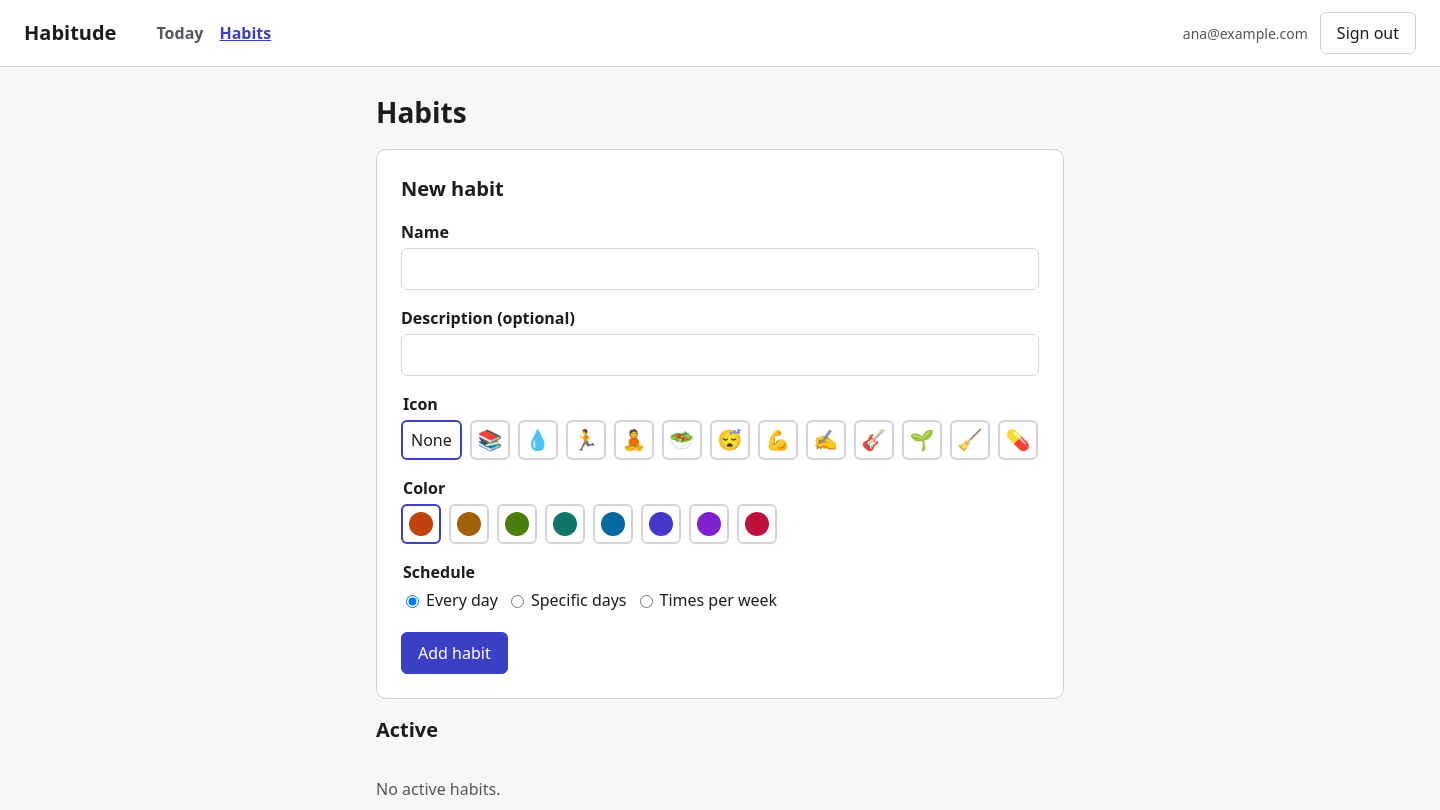
Scenario: spec 002 US1 - Create a habit › given 50 habits, when creating a 51st, then "Habit limit reached (50)" is announced
The width and height of the screenshot is (1440, 810).
Type "One too many" into the field labelled "Name" at [720, 269], box 401,248 -> 1039,290
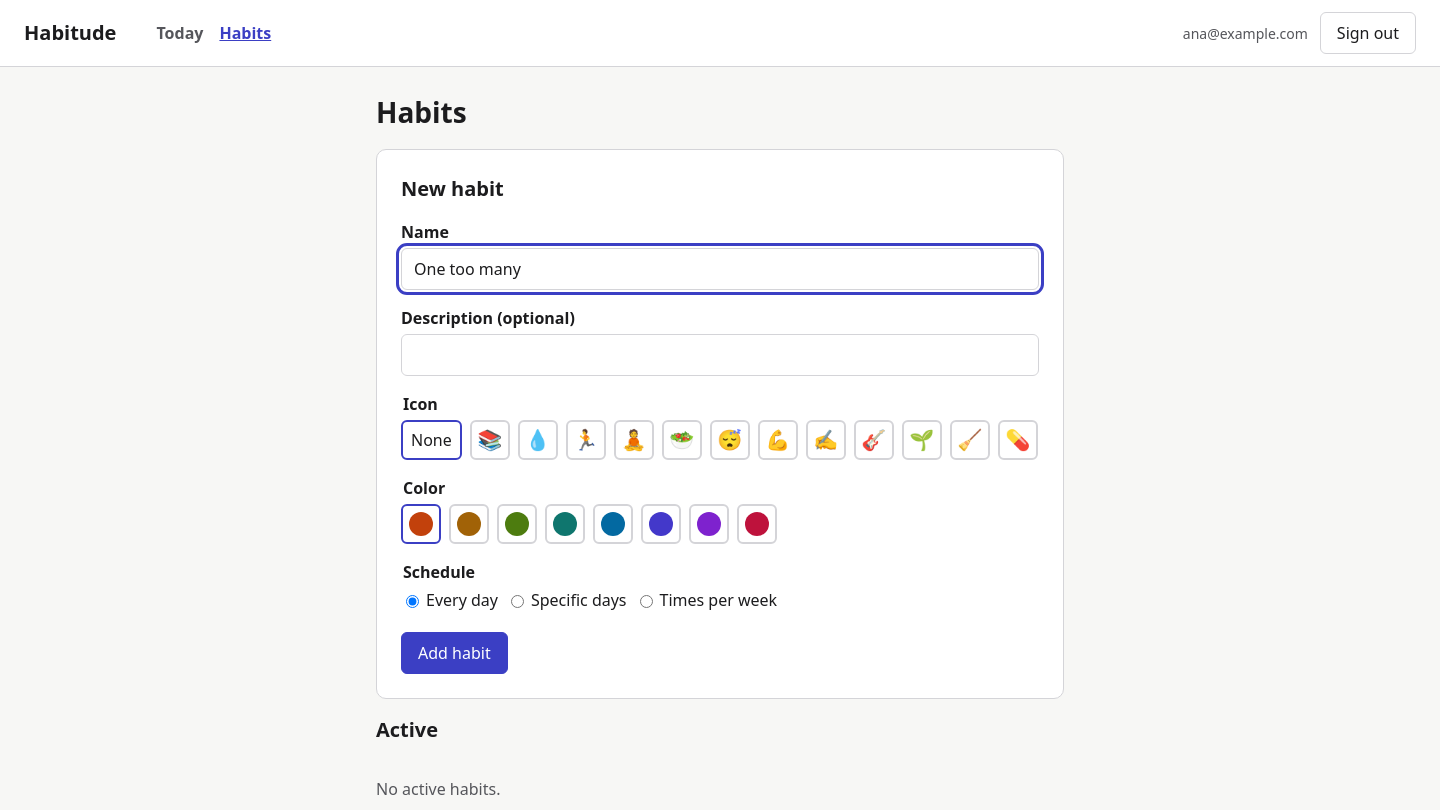
Click the button "Add habit" at [454, 653], box 401,632 -> 508,674
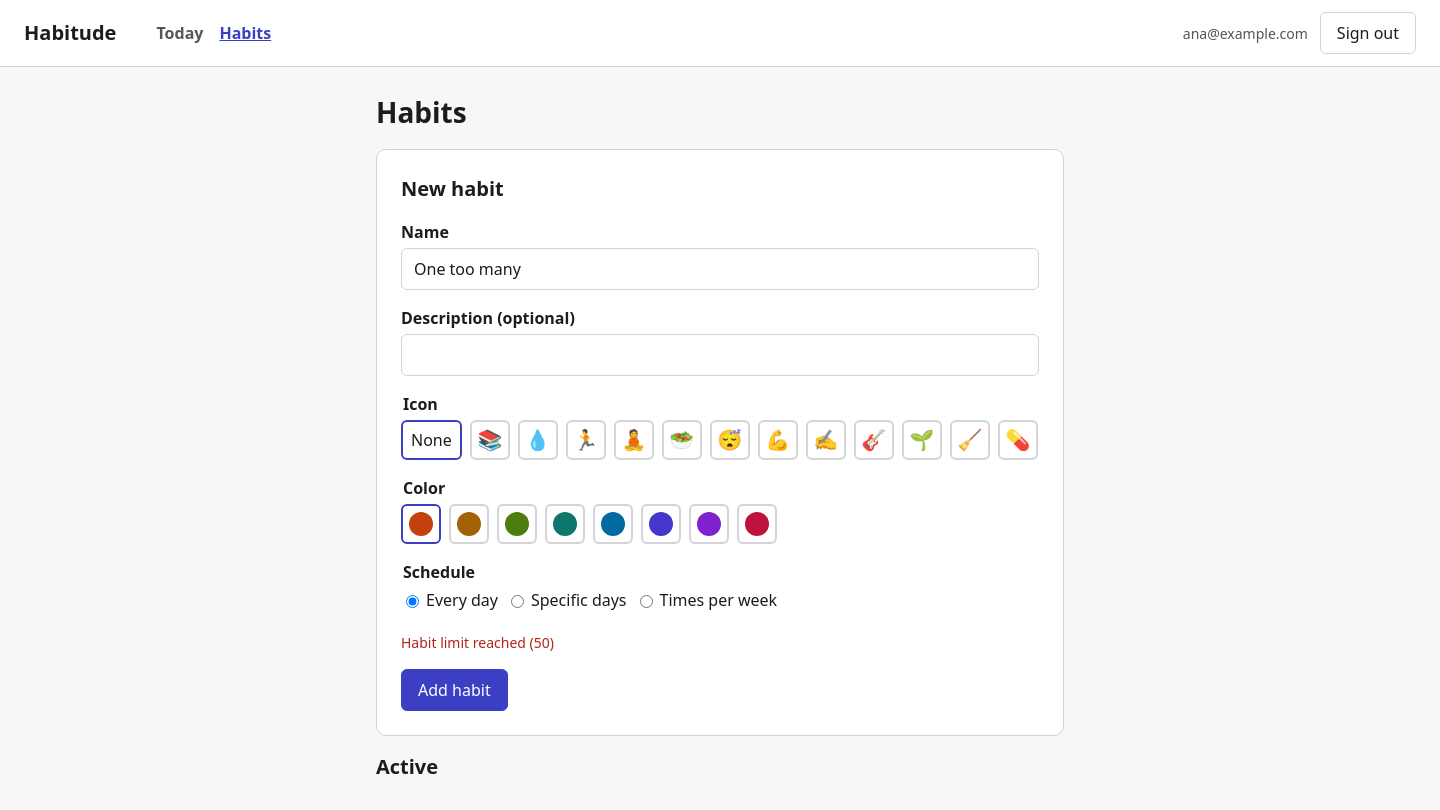
Check: the message reads "Habit limit reached (50)", box 401,633 -> 554,652
